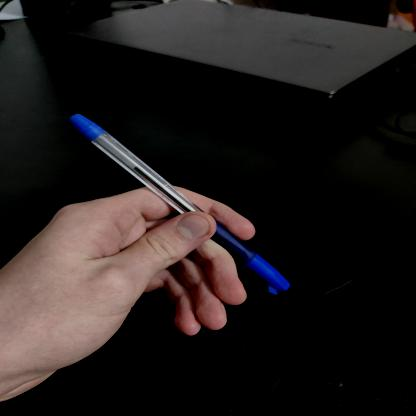pen: (67, 109, 335, 340)
